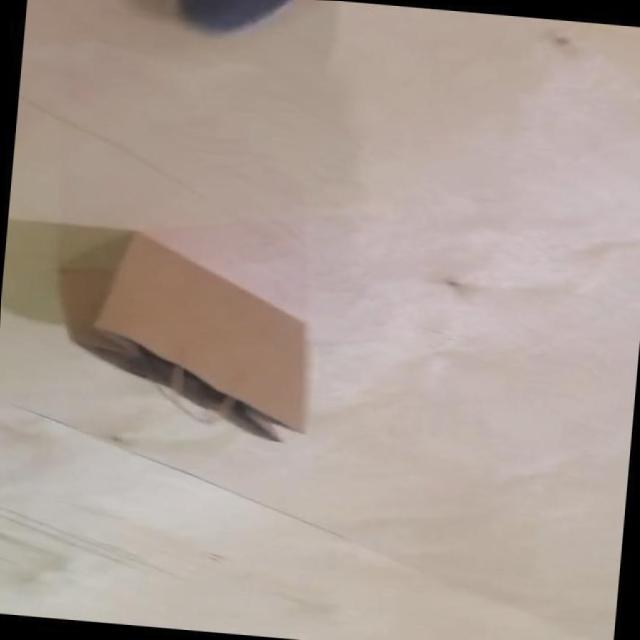Kardus: (52, 229, 317, 447)
